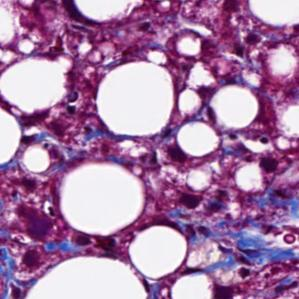inflammation: (174, 185, 231, 212), (210, 281, 237, 299), (257, 155, 281, 175)
